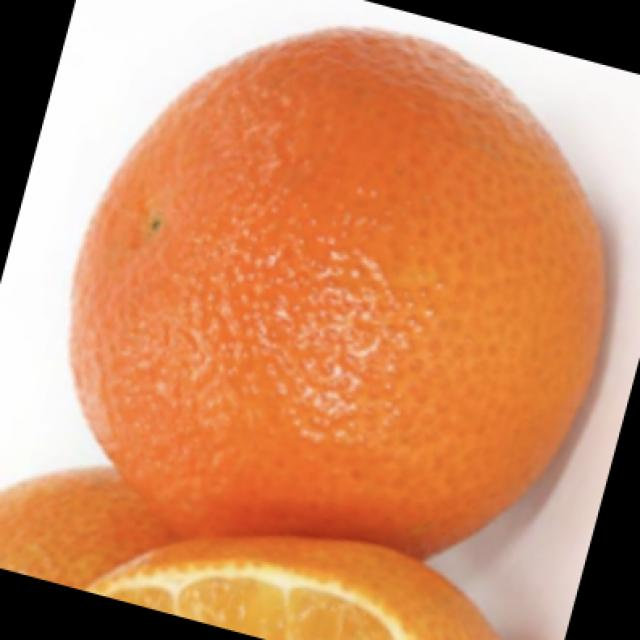fresh: (32, 9, 622, 640)
